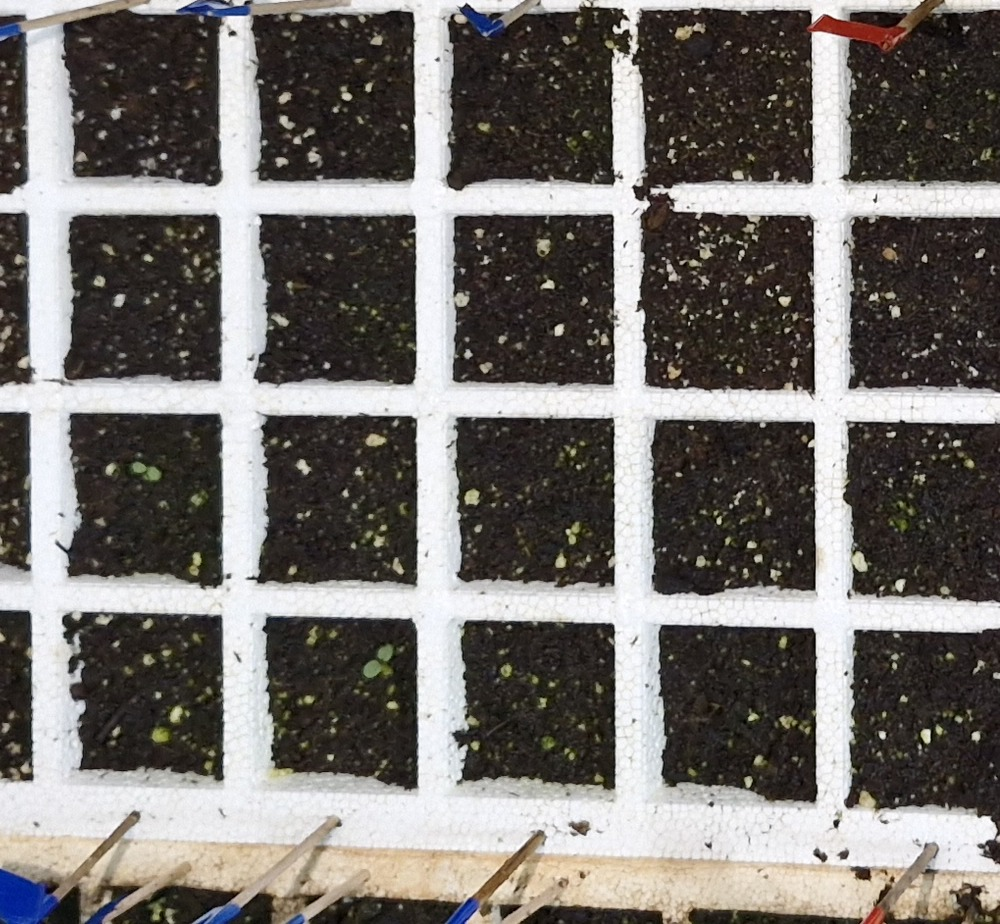Folha: (364, 660, 381, 677), (378, 644, 393, 661), (147, 466, 162, 479), (132, 462, 146, 473)
Germinacao: (363, 644, 393, 678), (132, 462, 162, 481)
